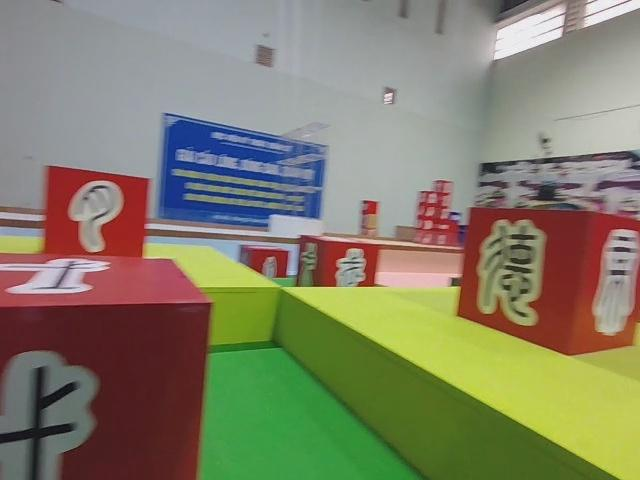R2 Fake: (454, 205, 640, 358), (41, 163, 151, 259), (295, 233, 382, 294)
R2 Real: (0, 251, 214, 480)
